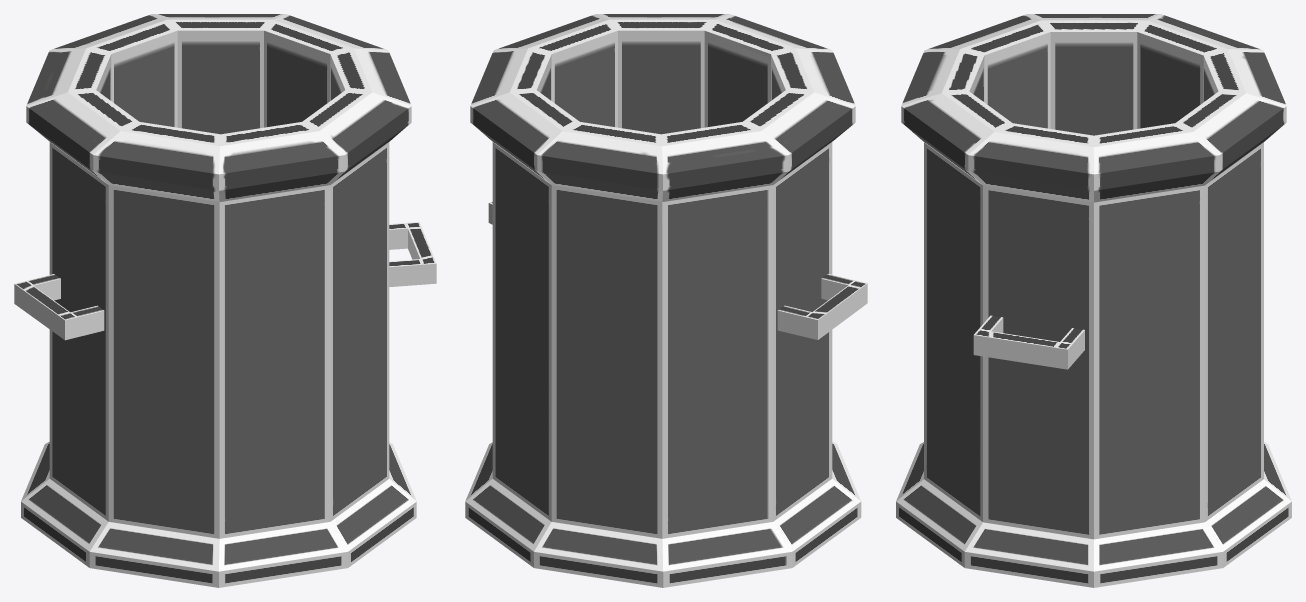
The model's file is TrashCanGGJ.fbx.
3 views of the same model, side by side, from view 1: azimuth 30°, elevation 25°; view 2: azimuth 150°, elevation 25°; view 3: azimuth 270°, elevation 25° (orthographic).
Parts seen in each view (by area): view 1: polySurface4; view 2: polySurface4; view 3: polySurface4.
Boxes of the visible parts, x1,y1,x2,y2 form: polySurface4: [14, 14, 436, 587]; polySurface4: [465, 14, 867, 587]; polySurface4: [896, 14, 1291, 587].
Size of the model in its own units: 3.37 by 3.7 by 3.15.
